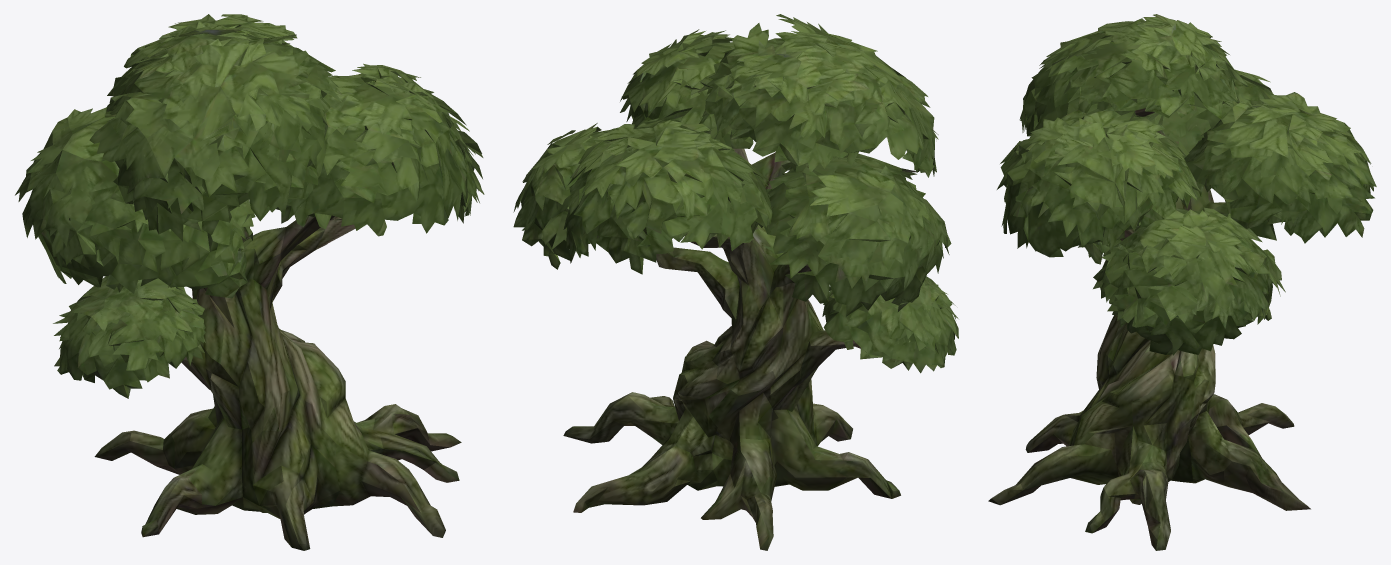
Rendered from tree.glb.
The picture shows the model from 3 angles, left to right: view 1: azimuth 30°, elevation 25°; view 2: azimuth 150°, elevation 25°; view 3: azimuth 270°, elevation 25°; orthographic projection. The views are drawn at different scales.
Parts seen in each view (by area): view 1: Mesh_0; view 2: Mesh_0; view 3: Mesh_0.
Boxes of the visible parts, bbox=[...] form: Mesh_0: bbox=[15, 14, 484, 550]; Mesh_0: bbox=[513, 14, 958, 550]; Mesh_0: bbox=[988, 14, 1376, 550].
Bounding box in the file's own units: 1.85 × 1.9 × 1.59.
1 material, 1 textured.
